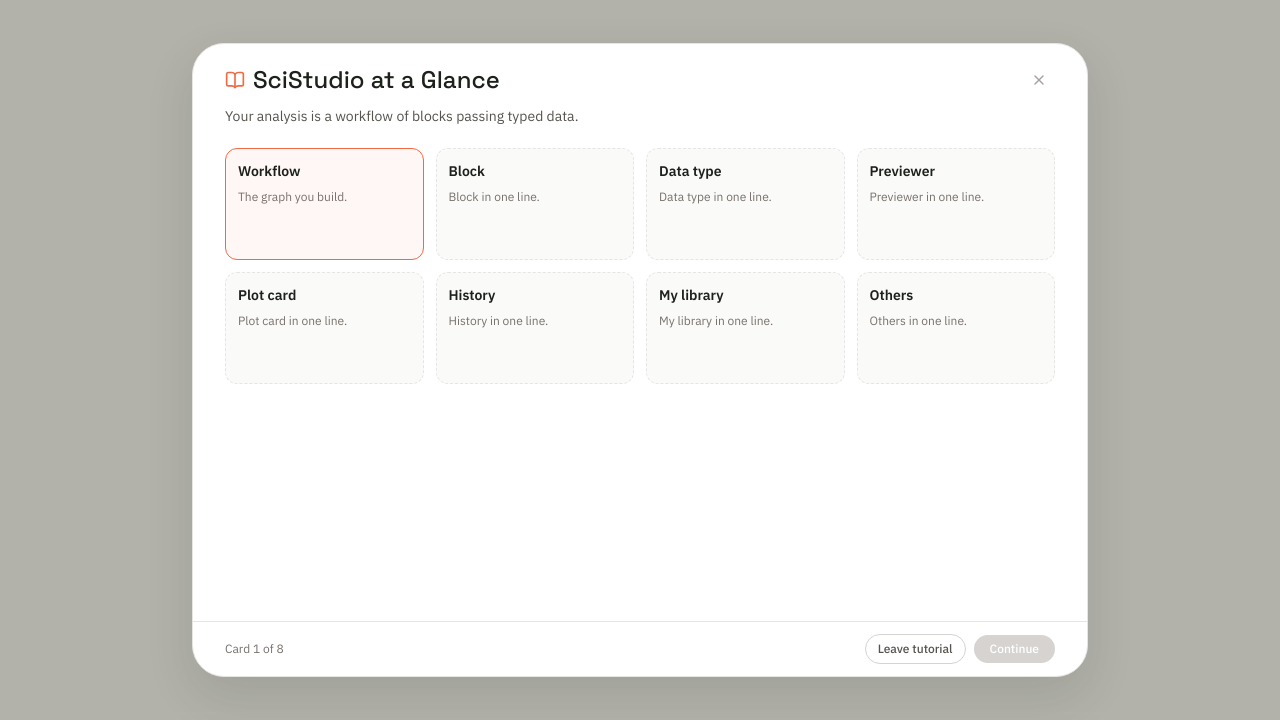
Test: the paged reader › returns to the grid from the last page
Click the button with test id "reading-card-0": x=324, y=204 top-left (225, 148), bottom-right (424, 260)
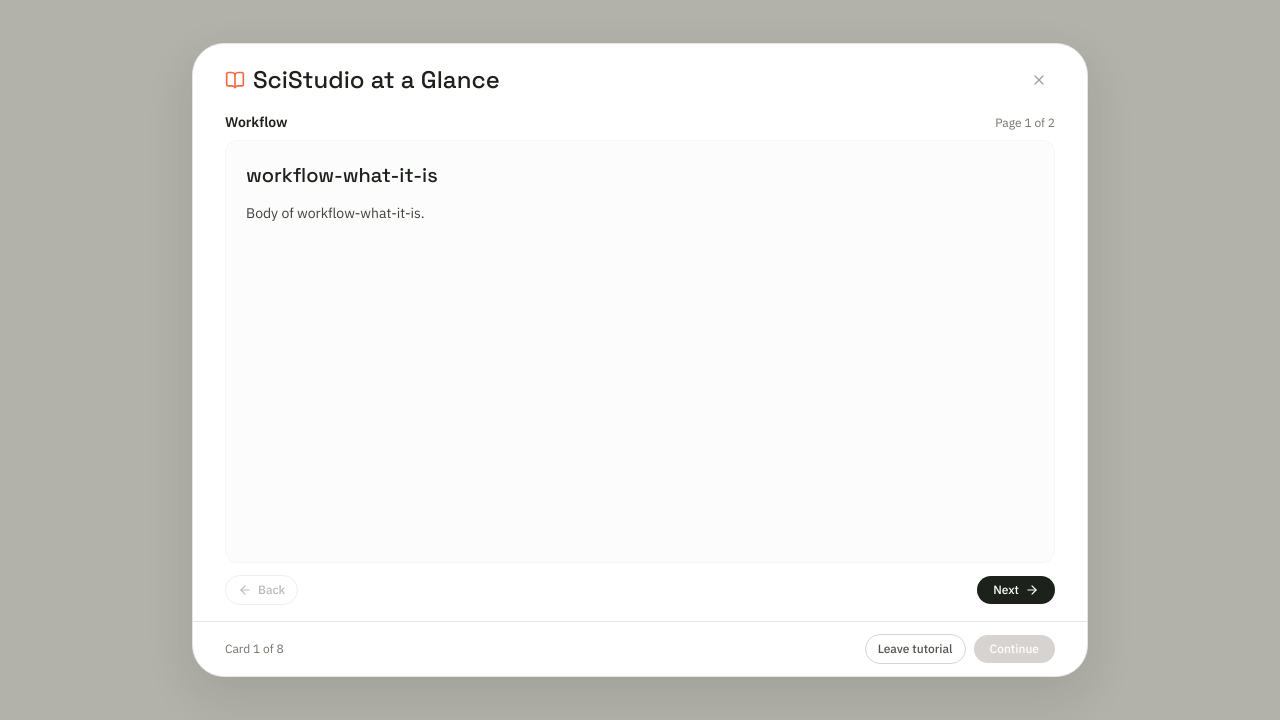
Expected: the text "Body of workflow-what-it-is." is shown, top-left (246, 204), bottom-right (424, 222)
Click the button with test id "reading-page-next": x=1016, y=590 top-left (977, 576), bottom-right (1055, 604)
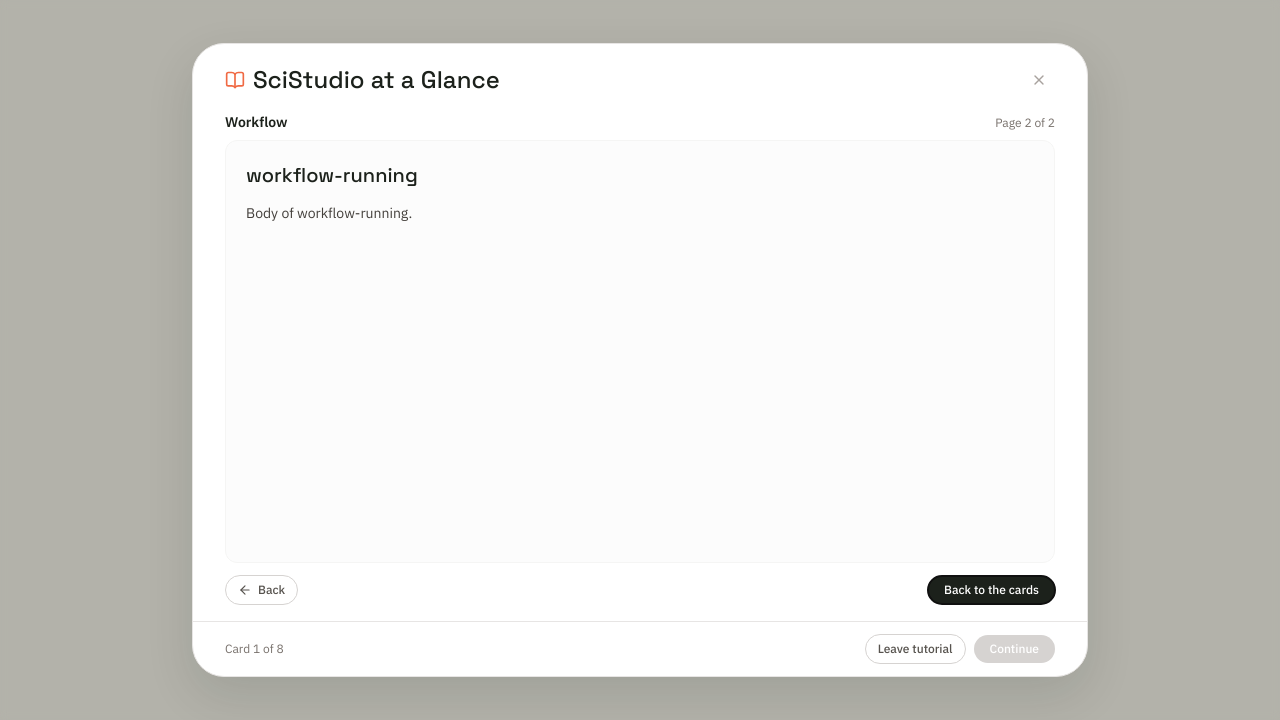
Expected: the text "Body of workflow-running." is shown, top-left (246, 204), bottom-right (412, 222)
Click the button with test id "reading-page-done": x=992, y=590 top-left (928, 576), bottom-right (1055, 604)
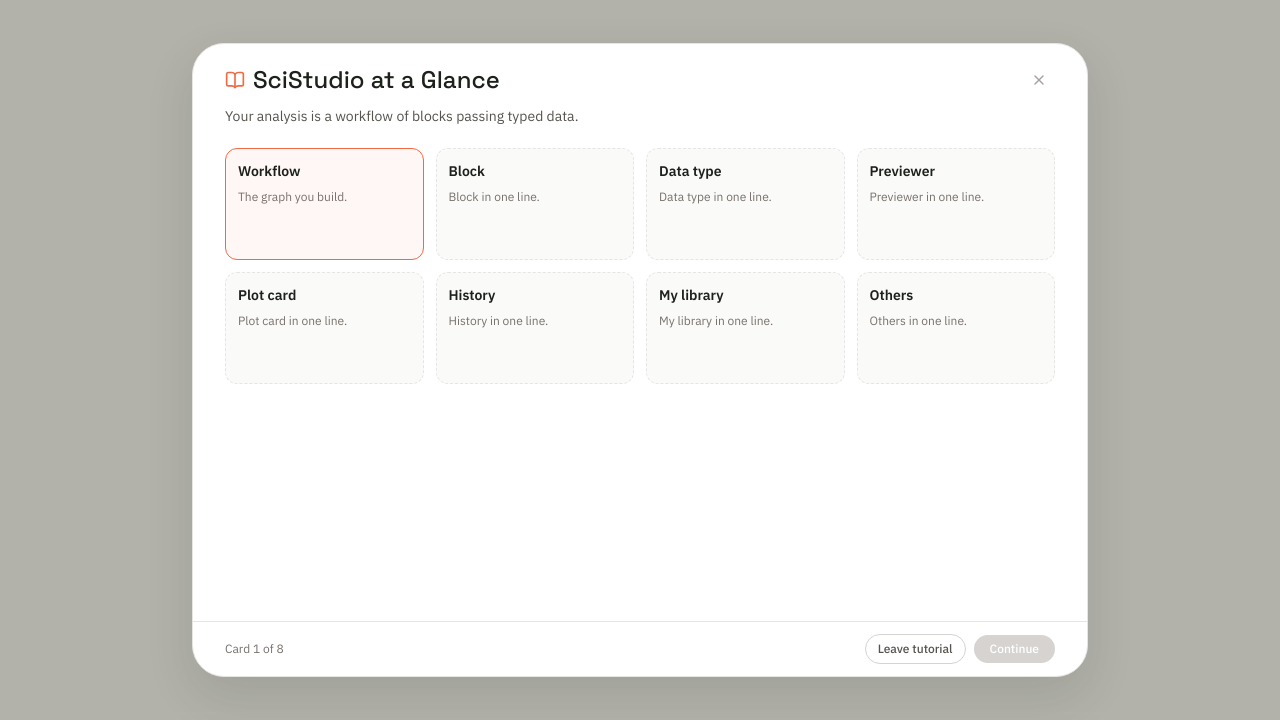
Expected: the element with test id "reading-page" is gone
Expected: the button with test id "reading-card-0" is shown, top-left (225, 148), bottom-right (424, 260)
